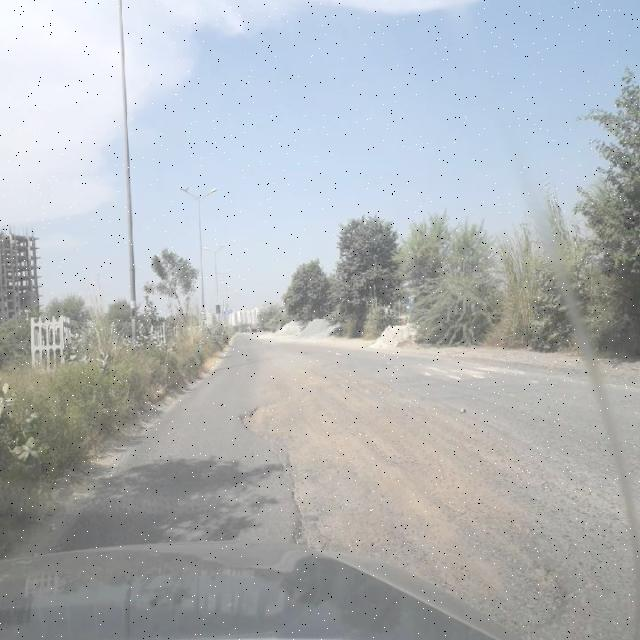D40: (235, 358, 630, 630)
